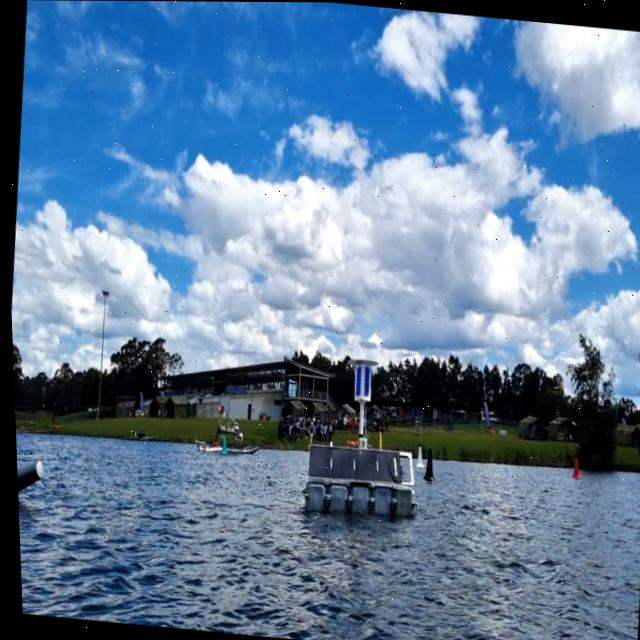led: (350, 364, 361, 396), (358, 364, 368, 397)
